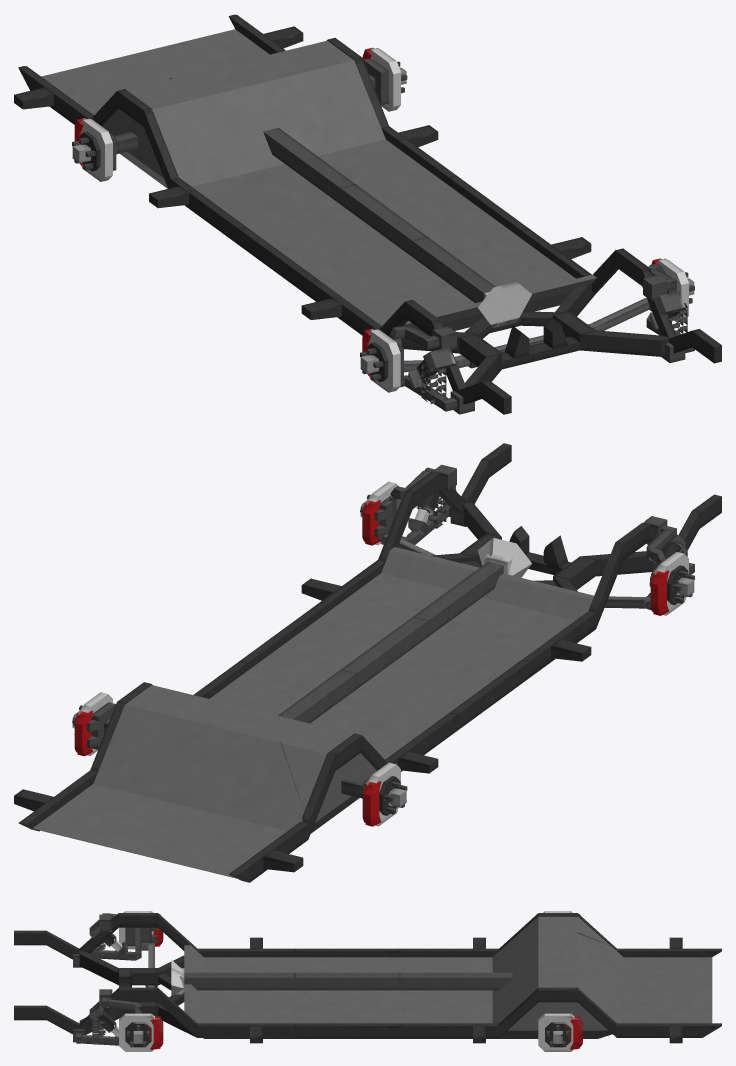
The model's file is lm_suspension_unu_frame_gen5.obj.
3 renders of one model, top to bottom at view 1: azimuth 30°, elevation 25°; view 2: azimuth 150°, elevation 25°; view 3: azimuth 270°, elevation 25°, orthographic. The views are drawn at different scales.
Parts seen in each view (by area): view 1: $FrameBack_Center, $FrameFront, $FrameCenter, $FrameBack_Extension_Center, $FrameFront_Center, $FrameBack_Right, $FrameFront_Right, $FrameFront_Left, $FrameBack_Left, $FrameBack, $FrameBack_Extension_Right, $RightBackWheel (+15 smaller); view 2: $FrameBack_Center, $FrameFront, $FrameCenter, $FrameBack_Extension_Center, $FrameFront_Right, $FrameFront_Center, $FrameFront_Left, $FrameBack_Extension_Right, $FrameBack_Right, $FrameBack_Extension_Left, $FrameBack, $FrameCenter_Right (+10 smaller); view 3: $FrameBack_Center, $FrameFront, $FrameCenter, $FrameBack_Extension_Center, $FrameFront_Left, $FrameBack_Left, $FrameFront_Right, $FrameFront_Center, $FrameBack_Extension_Left, $FrameBack, $FrameCenter_Left, $FrameBack_Right (+16 smaller).
Boxes of the visible parts, x1,y1,x2,y2 form: $FrameBack_Center: [102, 40, 448, 232]; $FrameFront: [327, 236, 596, 358]; $FrameCenter: [255, 184, 520, 285]; $FrameBack_Extension_Center: [41, 29, 269, 135]; $FrameFront_Center: [401, 283, 669, 387]; $FrameBack_Right: [117, 89, 246, 244]; $FrameFront_Right: [301, 279, 465, 393]; $FrameFront_Left: [520, 228, 676, 338]; $FrameBack_Left: [327, 38, 456, 185]; $FrameBack: [263, 128, 355, 203]; $FrameBack_Extension_Right: [14, 66, 171, 126]; $RightBackWheel: [72, 118, 118, 181]; $FrameBack_Center: [93, 672, 439, 833]; $FrameFront: [318, 526, 593, 666]; $FrameCenter: [246, 617, 511, 719]; $FrameBack_Extension_Center: [33, 784, 331, 878]; $FrameFront_Right: [521, 522, 664, 678]; $FrameFront_Center: [378, 502, 654, 591]; $FrameFront_Left: [301, 471, 466, 618]; $FrameBack_Extension_Right: [229, 742, 335, 882]; $FrameBack_Right: [327, 713, 456, 773]; $FrameBack_Extension_Left: [14, 702, 124, 831]; $FrameBack: [278, 670, 355, 723]; $FrameCenter_Right: [449, 660, 528, 730]; $FrameBack_Center: [400, 915, 623, 1038]; $FrameFront: [119, 945, 295, 1038]; $FrameCenter: [296, 957, 400, 1038]; $FrameBack_Extension_Center: [577, 957, 712, 1029]; $FrameFront_Left: [79, 987, 295, 1043]; $FrameBack_Left: [400, 987, 577, 1043]; $FrameFront_Right: [79, 913, 295, 957]; $FrameFront_Center: [79, 951, 196, 1037]; $FrameBack_Extension_Left: [577, 988, 721, 1043]; $FrameBack: [400, 972, 512, 990]; $FrameCenter_Left: [296, 1023, 400, 1037]; $FrameBack_Right: [400, 913, 577, 957].
Size of the model in its own units: 2.62 by 0.5781 by 6.75.
